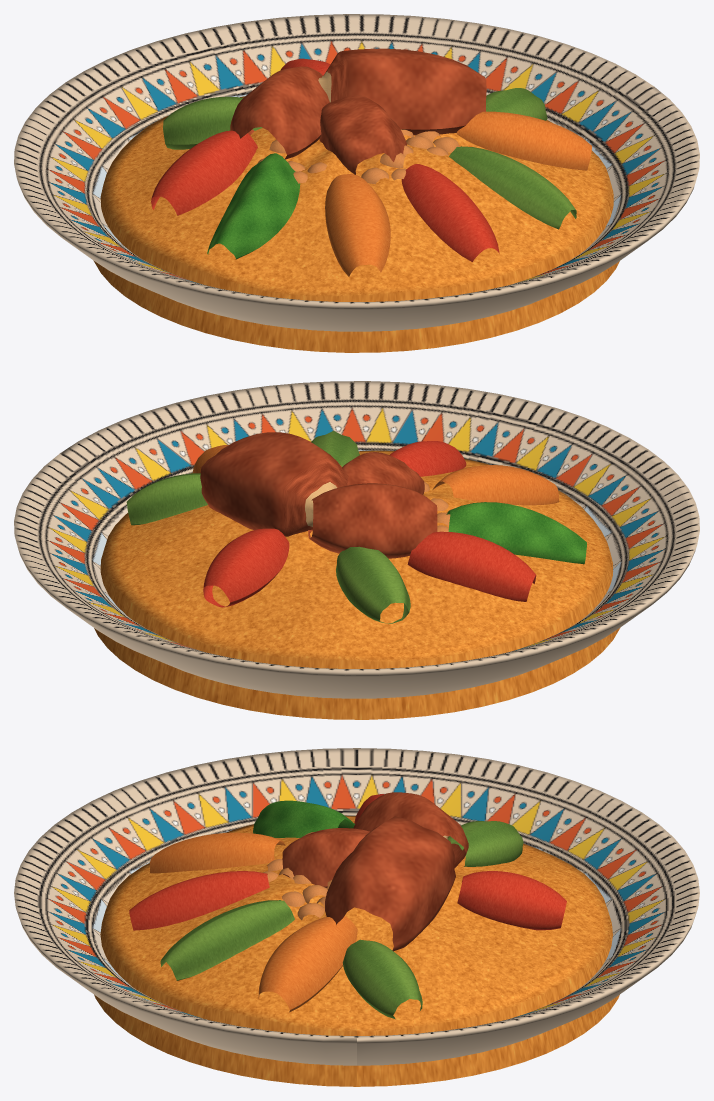
The model's file is Couscous_Plat_100pct_Full.obj.
3 renders of one model, top to bottom at view 1: azimuth 30°, elevation 25°; view 2: azimuth 150°, elevation 25°; view 3: azimuth 270°, elevation 25°, orthographic.
Parts seen in each view (by area): view 1: 00_Plate_Tebsi_Ceramic, 01_Couscous_Semolina_Mound, 02_Meat_Lamb_Shank_Main, 13_Veg_Left_Pumpkin_and_Zucchini, 03_Meat_Braised_Left, 06_Veg_Green_Pepper_Felfel, 07_Veg_Carrot_FrontLeft, 10_Veg_Carrot_Right, 08_Veg_Pumpkin_Red_Front, 04_Meat_Braised_Front, 09_Veg_Zucchini_FrontRight, 05_Chickpeas_Cluster (+1 smaller); view 2: 00_Plate_Tebsi_Ceramic, 01_Couscous_Semolina_Mound, 02_Meat_Lamb_Shank_Main, 13_Veg_Left_Pumpkin_and_Zucchini, 03_Meat_Braised_Left, 06_Veg_Green_Pepper_Felfel, 12_Veg_Carrot_TopRight, 07_Veg_Carrot_FrontLeft, 11_Veg_Zucchini_FarRight, 04_Meat_Braised_Front, 08_Veg_Pumpkin_Red_Front, 09_Veg_Zucchini_FrontRight; view 3: 00_Plate_Tebsi_Ceramic, 01_Couscous_Semolina_Mound, 02_Meat_Lamb_Shank_Main, 10_Veg_Carrot_Right, 09_Veg_Zucchini_FrontRight, 12_Veg_Carrot_TopRight, 08_Veg_Pumpkin_Red_Front, 07_Veg_Carrot_FrontLeft, 11_Veg_Zucchini_FarRight, 04_Meat_Braised_Front, 03_Meat_Braised_Left, 06_Veg_Green_Pepper_Felfel (+2 smaller).
Boxes of the visible parts, x1,y1,x2,y2 form: 00_Plate_Tebsi_Ceramic: [14, 14, 699, 331]; 01_Couscous_Semolina_Mound: [93, 96, 619, 352]; 02_Meat_Lamb_Shank_Main: [318, 48, 486, 135]; 13_Veg_Left_Pumpkin_and_Zucchini: [151, 96, 262, 215]; 03_Meat_Braised_Left: [230, 66, 329, 159]; 06_Veg_Green_Pepper_Felfel: [207, 153, 300, 259]; 07_Veg_Carrot_FrontLeft: [325, 174, 390, 276]; 10_Veg_Carrot_Right: [456, 111, 592, 170]; 08_Veg_Pumpkin_Red_Front: [401, 164, 499, 261]; 04_Meat_Braised_Front: [319, 95, 406, 174]; 09_Veg_Zucchini_FrontRight: [449, 146, 576, 229]; 05_Chickpeas_Cluster: [257, 129, 459, 184]; 00_Plate_Tebsi_Ceramic: [14, 381, 699, 698]; 01_Couscous_Semolina_Mound: [94, 450, 620, 719]; 02_Meat_Lamb_Shank_Main: [200, 432, 348, 536]; 13_Veg_Left_Pumpkin_and_Zucchini: [336, 531, 536, 624]; 03_Meat_Braised_Left: [308, 483, 437, 558]; 06_Veg_Green_Pepper_Felfel: [446, 502, 586, 564]; 12_Veg_Carrot_TopRight: [203, 528, 289, 607]; 07_Veg_Carrot_FrontLeft: [432, 465, 558, 505]; 11_Veg_Zucchini_FarRight: [126, 473, 207, 525]; 04_Meat_Braised_Front: [342, 452, 424, 494]; 08_Veg_Pumpkin_Red_Front: [389, 441, 466, 476]; 09_Veg_Zucchini_FrontRight: [311, 430, 359, 466]; 00_Plate_Tebsi_Ceramic: [14, 748, 699, 1065]; 01_Couscous_Semolina_Mound: [94, 815, 619, 1086]; 02_Meat_Lamb_Shank_Main: [325, 816, 455, 951]; 10_Veg_Carrot_Right: [258, 916, 357, 1012]; 09_Veg_Zucchini_FrontRight: [160, 900, 294, 980]; 12_Veg_Carrot_TopRight: [457, 871, 566, 930]; 08_Veg_Pumpkin_Red_Front: [129, 871, 269, 930]; 07_Veg_Carrot_FrontLeft: [150, 832, 285, 873]; 11_Veg_Zucchini_FarRight: [342, 939, 422, 1019]; 04_Meat_Braised_Front: [282, 828, 369, 887]; 03_Meat_Braised_Left: [353, 792, 468, 868]; 06_Veg_Green_Pepper_Felfel: [253, 800, 354, 837].
Bounding box in the file's own units: 0.32 × 0.0949 × 0.32.
1 material, 1 textured.
